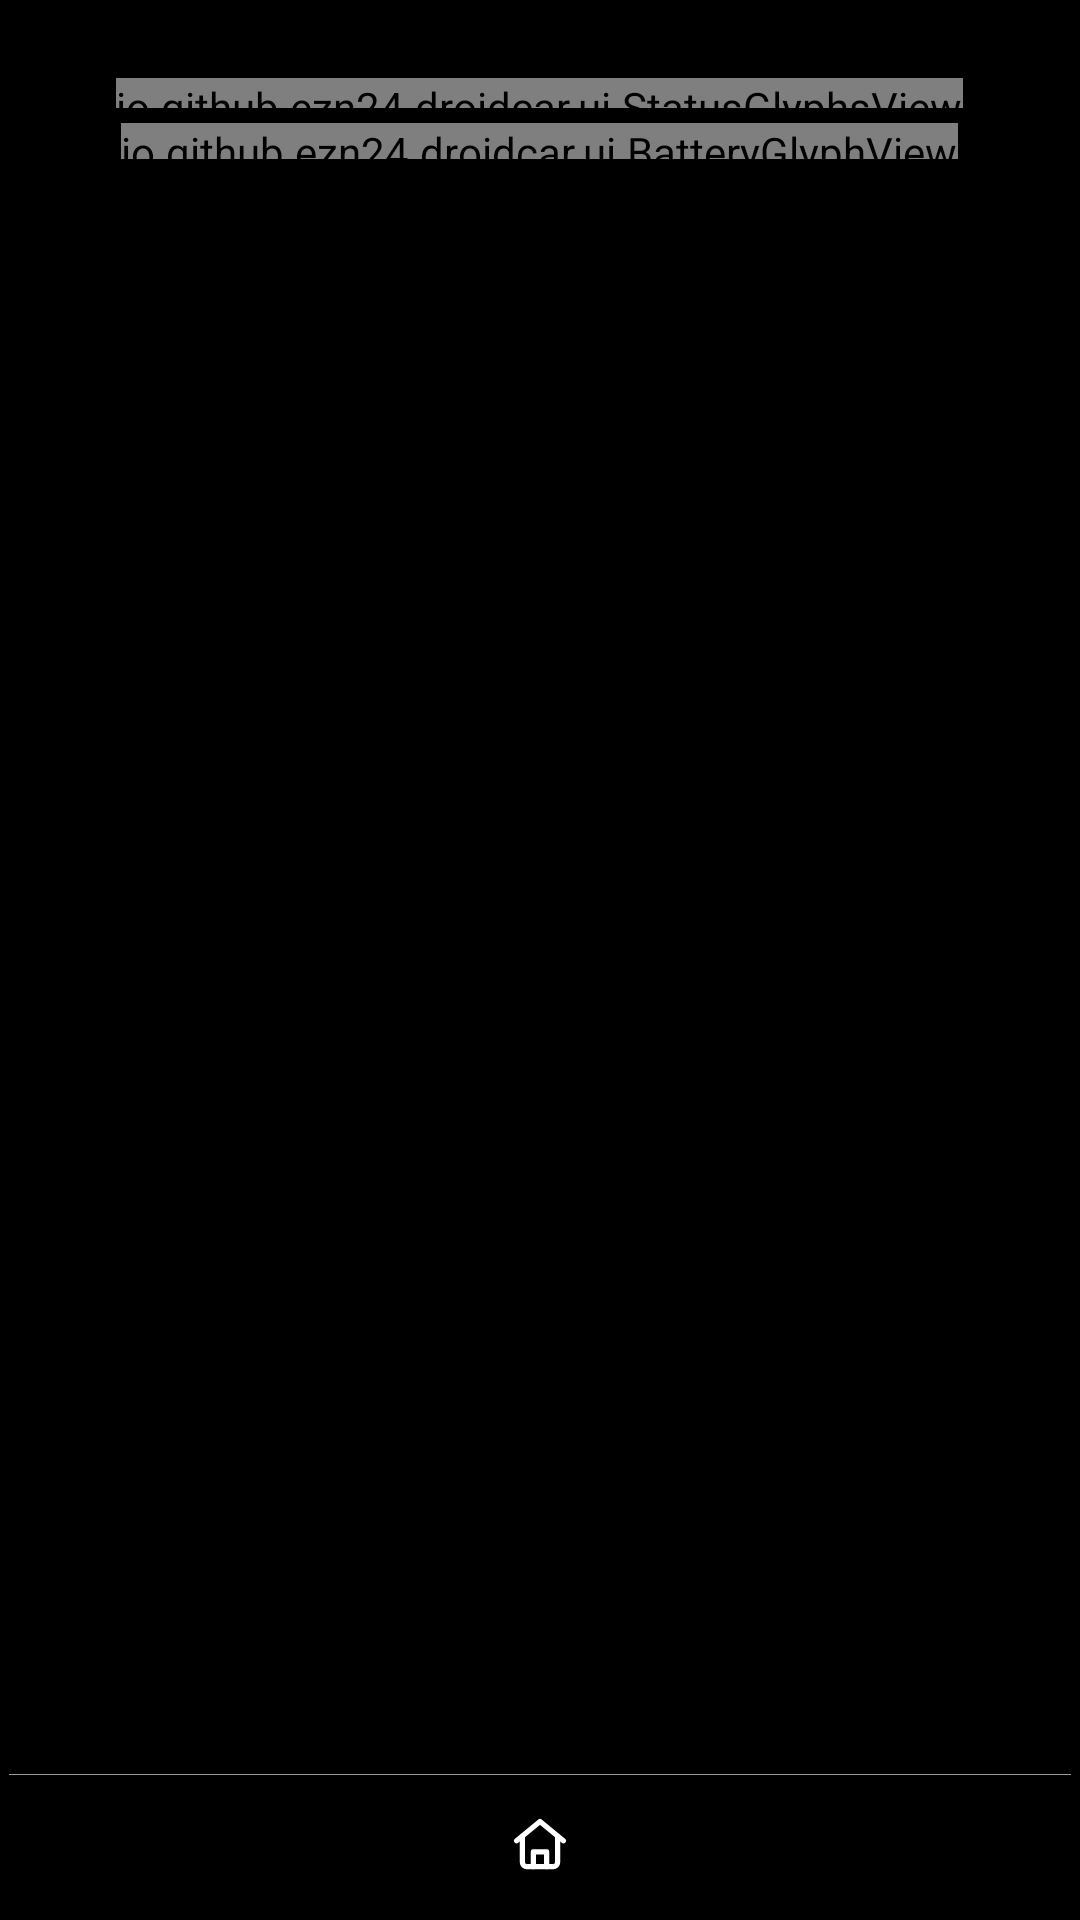

Icon bounding boxes for this 1080px x 1920px phone screenshot, format rect(x1, y1, x2, y2):
回到桌面: rect(514, 1818, 566, 1870)
